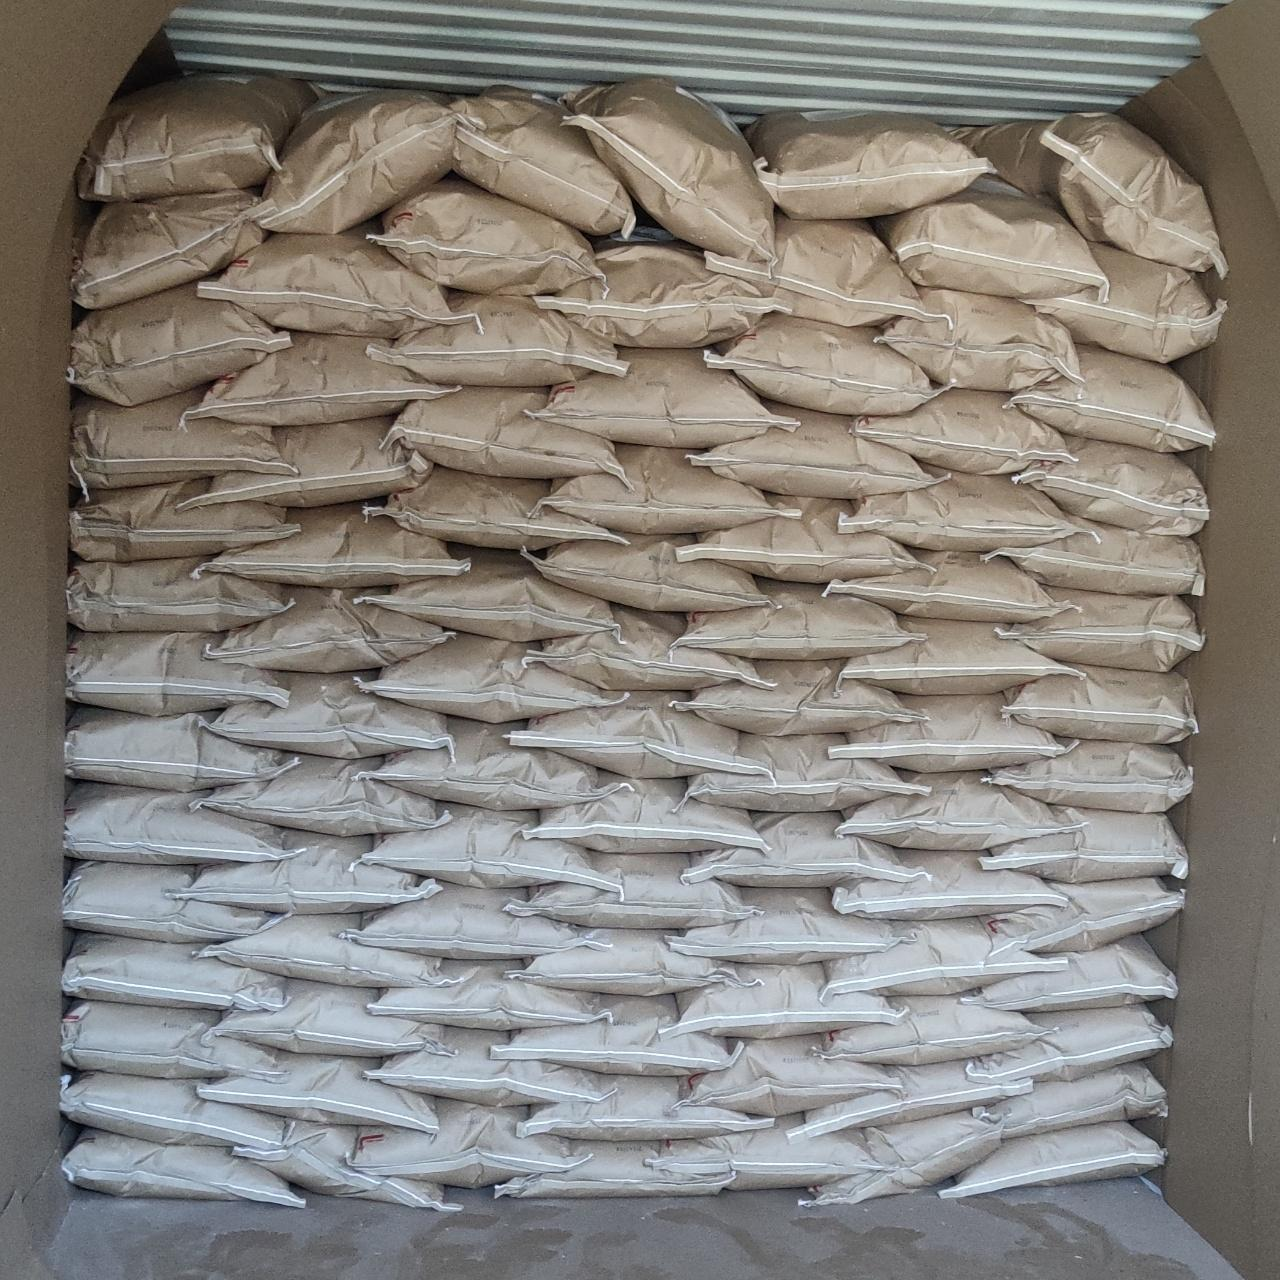sack: (958, 114, 1227, 274), (566, 78, 772, 262), (78, 74, 314, 198), (254, 92, 454, 230), (198, 230, 454, 334), (370, 178, 598, 294), (878, 178, 1102, 296), (452, 92, 634, 236), (534, 246, 786, 348), (748, 108, 990, 214), (70, 286, 286, 404), (528, 350, 778, 446), (706, 218, 926, 326), (188, 334, 454, 422), (706, 316, 940, 414), (1026, 244, 1224, 358), (370, 294, 626, 382), (74, 190, 264, 306), (364, 548, 608, 638), (360, 634, 620, 718), (690, 406, 938, 494), (1010, 346, 1214, 452), (72, 388, 288, 486), (176, 830, 438, 910), (206, 504, 466, 584), (364, 468, 622, 548), (546, 444, 774, 534), (392, 388, 620, 478), (526, 606, 770, 690), (206, 588, 454, 670), (364, 804, 612, 886), (208, 672, 448, 756), (196, 418, 430, 504), (878, 290, 1078, 390), (680, 496, 912, 582), (352, 1098, 578, 1186), (234, 1118, 454, 1208), (376, 718, 600, 806), (64, 706, 294, 790), (494, 994, 734, 1074), (510, 694, 748, 774), (200, 1052, 438, 1132), (842, 472, 1080, 550), (64, 1128, 302, 1206), (198, 756, 442, 832), (200, 914, 450, 988), (678, 580, 912, 658), (688, 734, 928, 810), (1012, 438, 1206, 532), (522, 536, 768, 610), (854, 390, 1070, 474), (70, 478, 294, 558), (526, 776, 760, 852), (840, 772, 1080, 846), (686, 812, 926, 886), (802, 1114, 998, 1204), (508, 852, 746, 926), (66, 632, 286, 712), (834, 694, 1064, 770), (370, 1028, 600, 1104), (64, 784, 288, 862), (842, 618, 1070, 694), (208, 980, 442, 1054), (670, 888, 904, 962), (796, 1060, 1030, 1134), (676, 662, 914, 734), (350, 886, 588, 958), (62, 862, 274, 942), (824, 550, 1058, 622), (62, 1000, 276, 1078), (1000, 588, 1202, 670), (62, 934, 284, 1008), (652, 1116, 874, 1190), (518, 1074, 770, 1138), (66, 558, 288, 630), (942, 1122, 1164, 1194), (826, 920, 1048, 992), (672, 964, 894, 1036), (370, 962, 610, 1028), (686, 1036, 888, 1114), (984, 522, 1202, 594), (60, 1072, 278, 1144), (962, 936, 1174, 1010), (836, 850, 1062, 918), (516, 928, 742, 994), (986, 878, 1182, 954), (984, 740, 1190, 812), (1002, 666, 1196, 742), (976, 1004, 1172, 1078), (982, 808, 1188, 878), (822, 996, 1040, 1062), (976, 1062, 1166, 1134), (496, 1140, 726, 1198)
